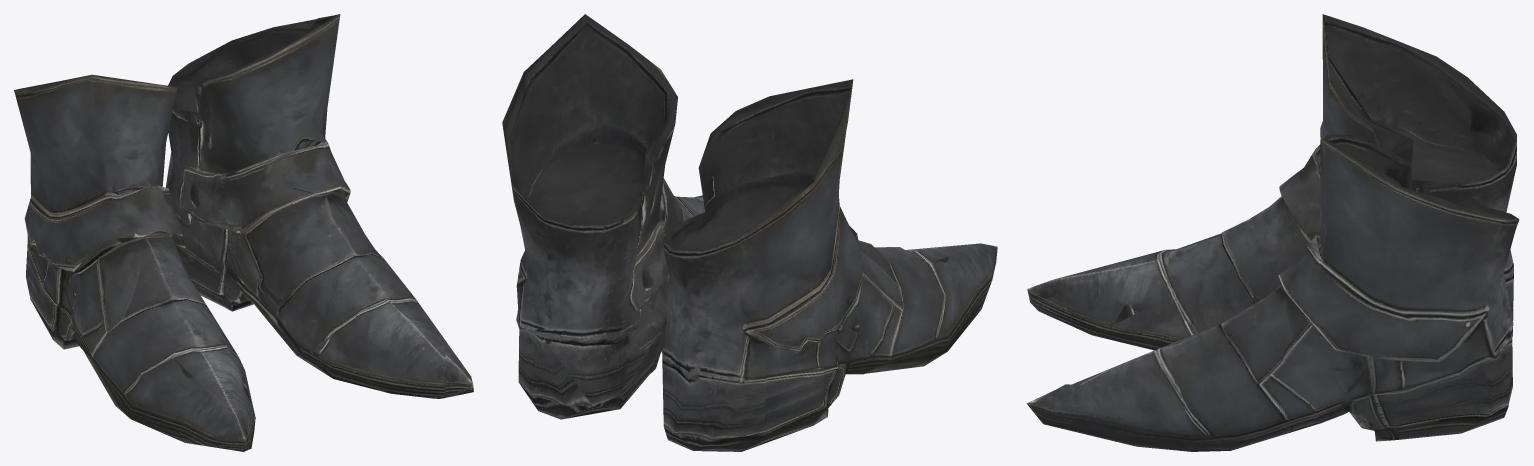
File: Iron_Boots_Armor.glb
3 renders of one model, left to right at view 1: azimuth 30°, elevation 25°; view 2: azimuth 150°, elevation 25°; view 3: azimuth 270°, elevation 25°, orthographic. The views are drawn at different scales.
Size of the model in its own units: 1.36 by 1.28 by 1.9.
1 material, 1 textured.
